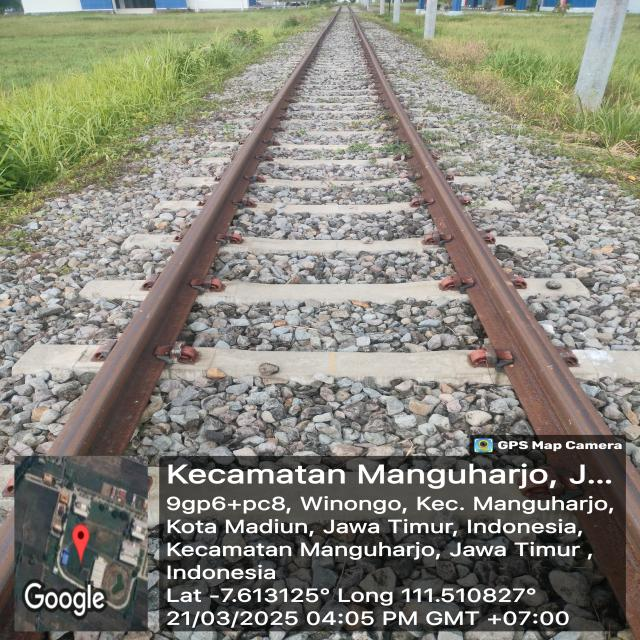rail-detection: (351, 14, 640, 637), (50, 11, 339, 455)
